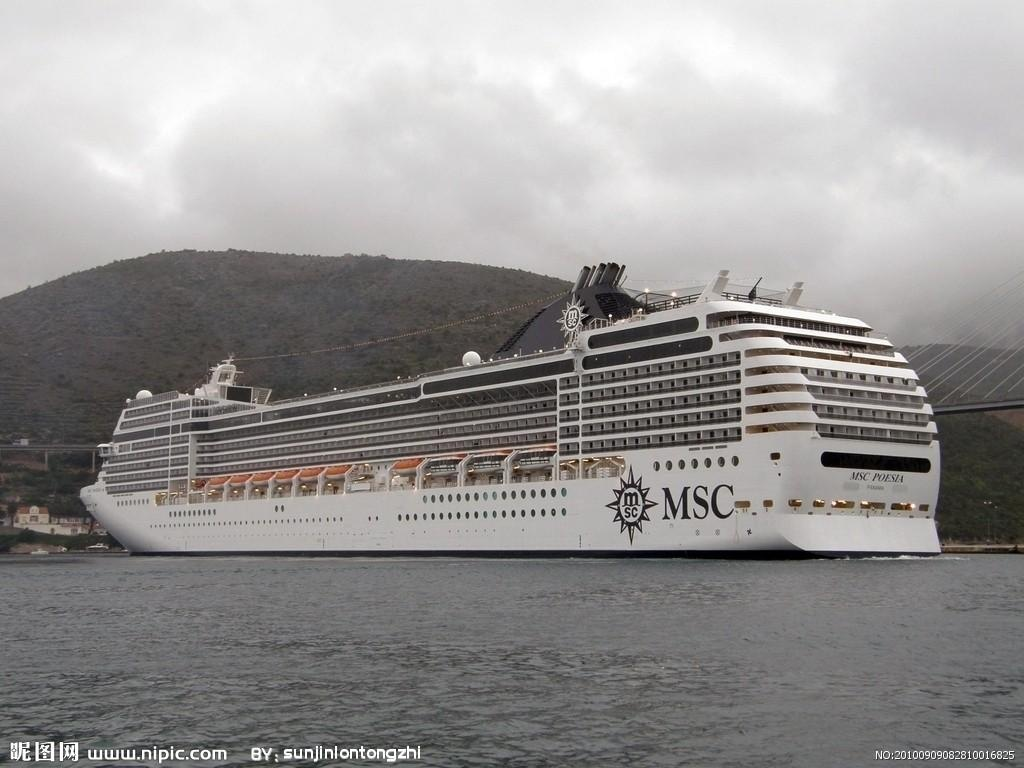youlun: (74, 252, 947, 563)
